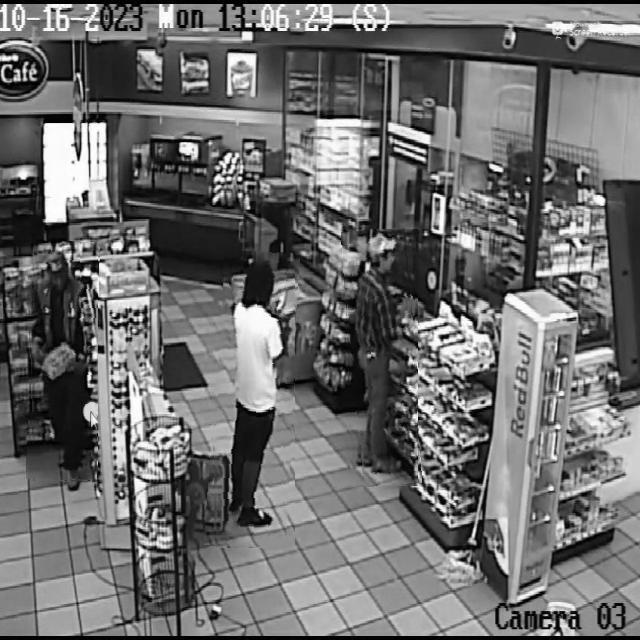Normal: (209, 251, 295, 548), (345, 229, 418, 487), (28, 241, 98, 481)
